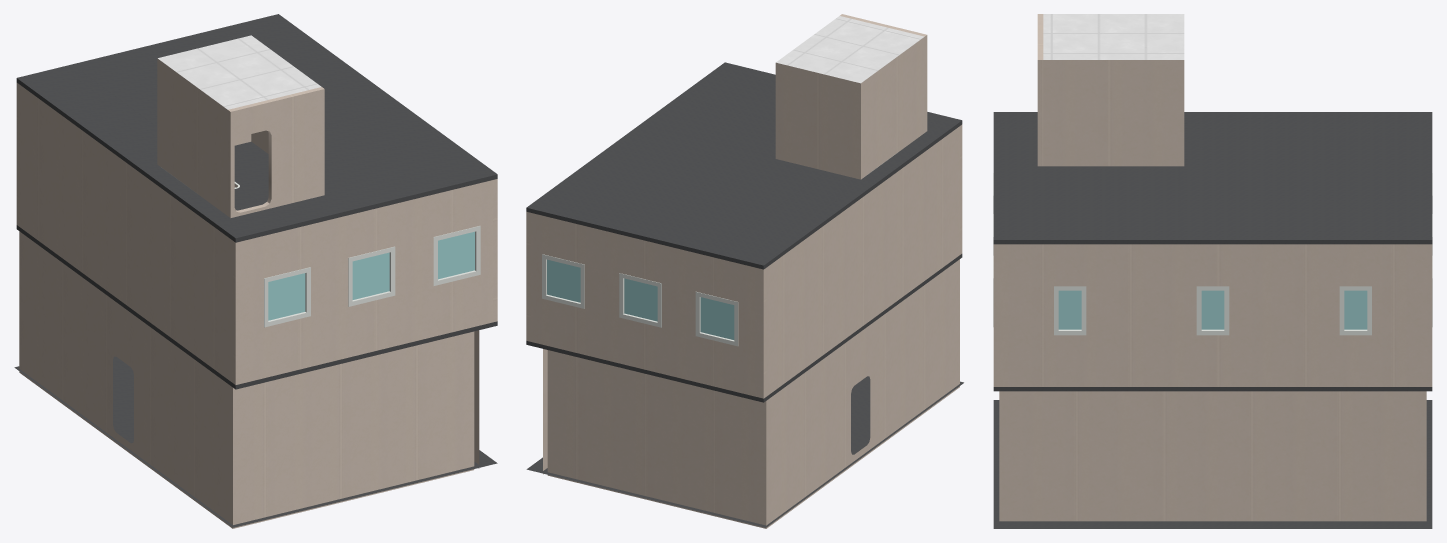
The model's file is Space_03.fbx.
3 views of the same model, side by side, from view 1: azimuth 30°, elevation 25°; view 2: azimuth 150°, elevation 25°; view 3: azimuth 270°, elevation 25° (orthographic). The views are drawn at different scales.
Visible parts, largest first — view 1: Floor_Ctrl_Solo, Wall_Inf_Solo_002, Wall_Mid_004, Wall_Mid_001, Wall_Inf_007_002, Wall_Ctrl_Solo_001, Wall_Ctrl_Solo_002, Ceiling_Ctrl_Solo, Floor_Accommodations001, Floor_S03, Glass_004, Glass_003 (+7 smaller); view 2: Floor_Ctrl_Solo, Wall_Inf_Solo_002, Wall_Mid_002, Wall_Mid_004, Wall_Inf_007_002, Wall_Ctrl_Solo_002, Ceiling_Ctrl_Solo, Floor_Accommodations001, Floor_S03, Glass_007, Glass_006, Glass_008 (+6 smaller); view 3: Wall_Mid_003, Wall_Inf_Solo_001, Floor_Ctrl_Solo, Wall_Ctrl_Solo_002, Ceiling_Ctrl_Solo, Floor_Accommodations001, Floor_S03, Wall_Ctrl_Solo_001, Glass_009, Glass_011, Glass_010, Marco_010 (+2 smaller).
Part boxes in pixels (x1,y1,x2,y2): Floor_Ctrl_Solo: [16, 14, 497, 242]; Wall_Inf_Solo_002: [233, 331, 474, 528]; Wall_Mid_004: [19, 84, 232, 382]; Wall_Mid_001: [233, 180, 492, 384]; Wall_Inf_007_002: [19, 231, 232, 528]; Wall_Ctrl_Solo_001: [228, 87, 324, 217]; Wall_Ctrl_Solo_002: [157, 58, 268, 215]; Ceiling_Ctrl_Solo: [158, 35, 321, 109]; Floor_Accommodations001: [14, 356, 497, 527]; Floor_S03: [16, 225, 497, 389]; Glass_004: [352, 252, 389, 299]; Glass_003: [268, 273, 305, 320]; Floor_Ctrl_Solo: [526, 62, 962, 269]; Wall_Inf_Solo_002: [547, 350, 766, 528]; Wall_Mid_002: [530, 213, 766, 398]; Wall_Mid_004: [766, 126, 959, 396]; Wall_Inf_007_002: [766, 259, 959, 528]; Wall_Ctrl_Solo_002: [775, 37, 924, 179]; Ceiling_Ctrl_Solo: [776, 16, 924, 83]; Floor_Accommodations001: [526, 376, 963, 527]; Floor_S03: [526, 254, 962, 402]; Glass_007: [700, 297, 734, 339]; Glass_006: [624, 278, 657, 321]; Glass_008: [547, 259, 580, 302]; Wall_Mid_003: [993, 244, 1432, 386]; Wall_Inf_Solo_001: [999, 391, 1426, 521]; Floor_Ctrl_Solo: [993, 112, 1432, 244]; Wall_Ctrl_Solo_002: [1043, 60, 1184, 166]; Ceiling_Ctrl_Solo: [1043, 14, 1184, 59]; Floor_Accommodations001: [993, 400, 1432, 528]; Floor_S03: [993, 387, 1432, 391]; Wall_Ctrl_Solo_001: [1037, 14, 1043, 166]; Glass_009: [1344, 290, 1367, 329]; Glass_011: [1058, 290, 1081, 329]; Glass_010: [1201, 290, 1224, 329]; Marco_010: [1196, 286, 1229, 335].
Size of the model in its own units: 6.28 by 9.04 by 9.02.
